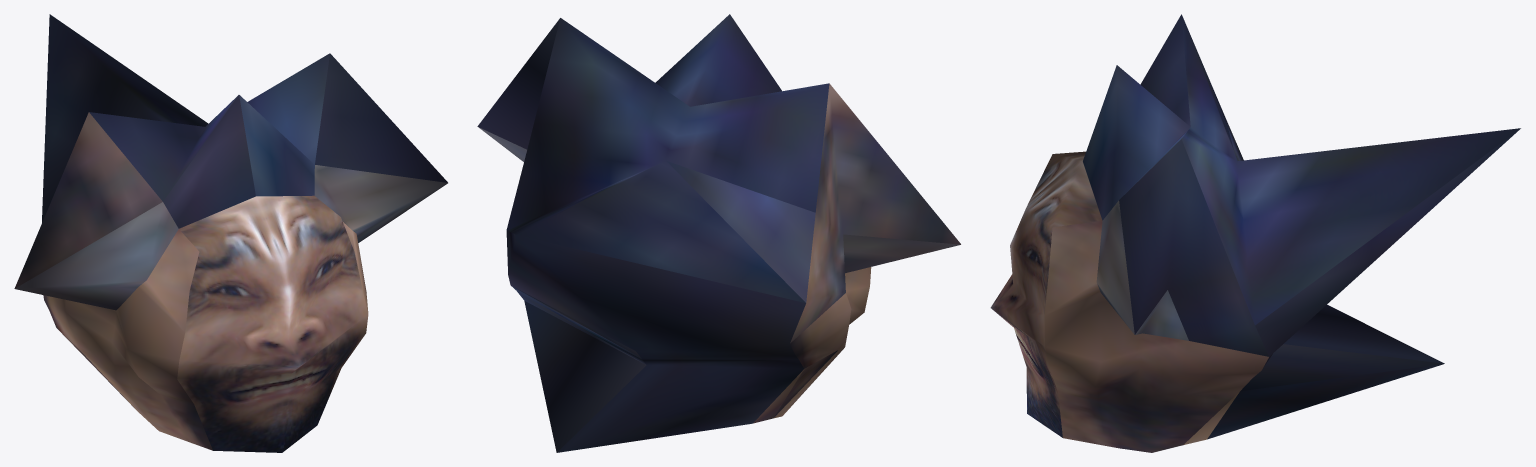
Rendered from head.gltf.
3 renders of one model, left to right at view 1: azimuth 30°, elevation 25°; view 2: azimuth 150°, elevation 25°; view 3: azimuth 270°, elevation 25°, orthographic. The views are drawn at different scales.
Parts seen in each view (by area): view 1: head; view 2: head; view 3: head.
Boxes of the visible parts, x1=… form: head: x1=14, y1=14, x2=447, y2=452; head: x1=477, y1=14, x2=960, y2=452; head: x1=990, y1=14, x2=1520, y2=452.
Size of the model in its own units: 0.8699 by 0.6398 by 0.8667.
Materials: 1 (1 with a texture image).
